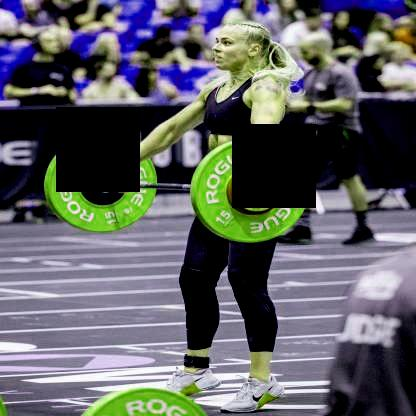barbell: (195, 138, 310, 243), (49, 135, 158, 234)
